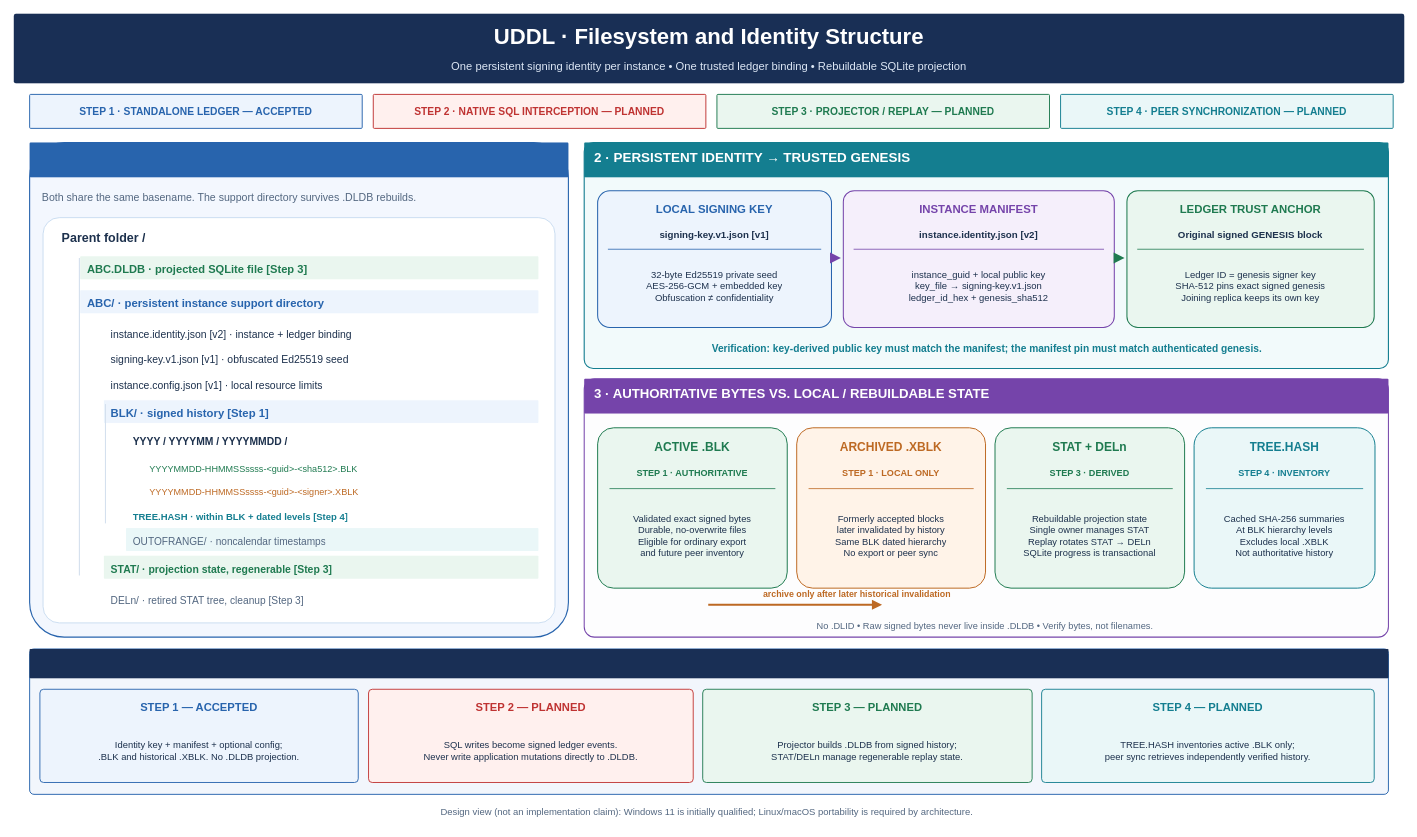
Image size: 1417x837. Some labels were removed from this diagram. The shapes that lost their labels are listed below. From the top down, each one's centre as x and y in pixels, then its label:
point (298, 159): 1 · DATABASE FILE + SUPPORT DIRECTORY
point (708, 663): 4 · WHEN THESE FILES ARE USED
